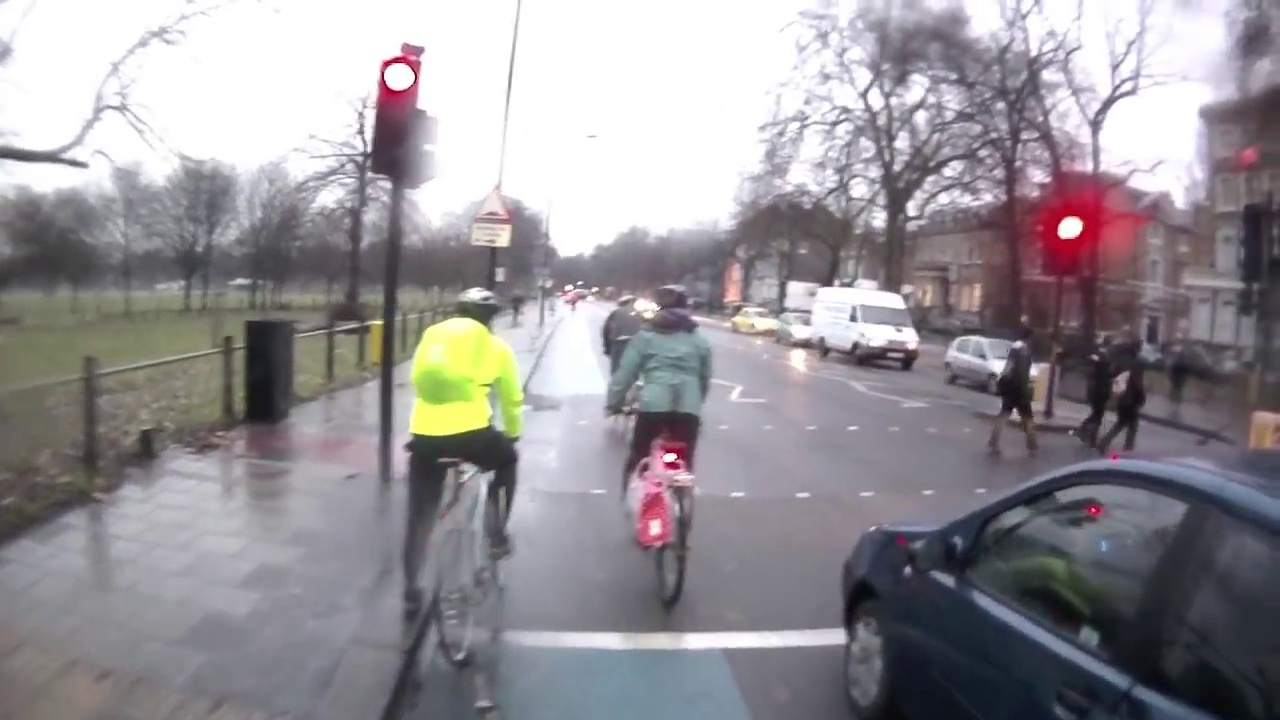cyclist_back: (391, 271, 520, 693), (619, 278, 714, 628)
